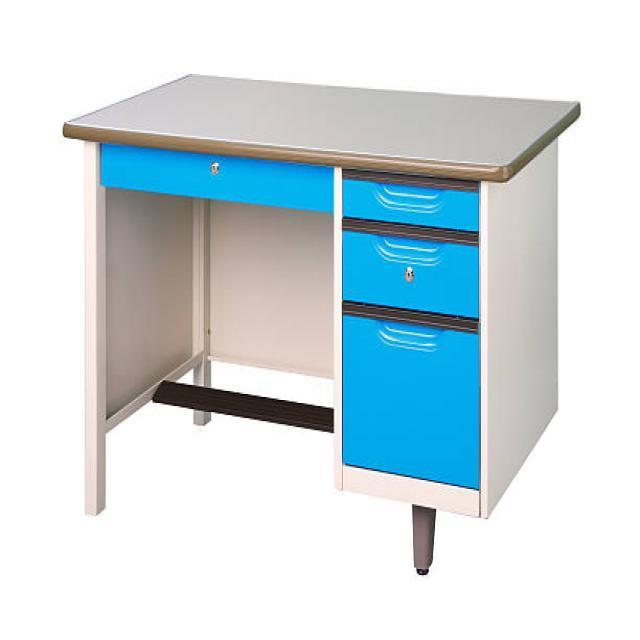table: (62, 71, 580, 575)
